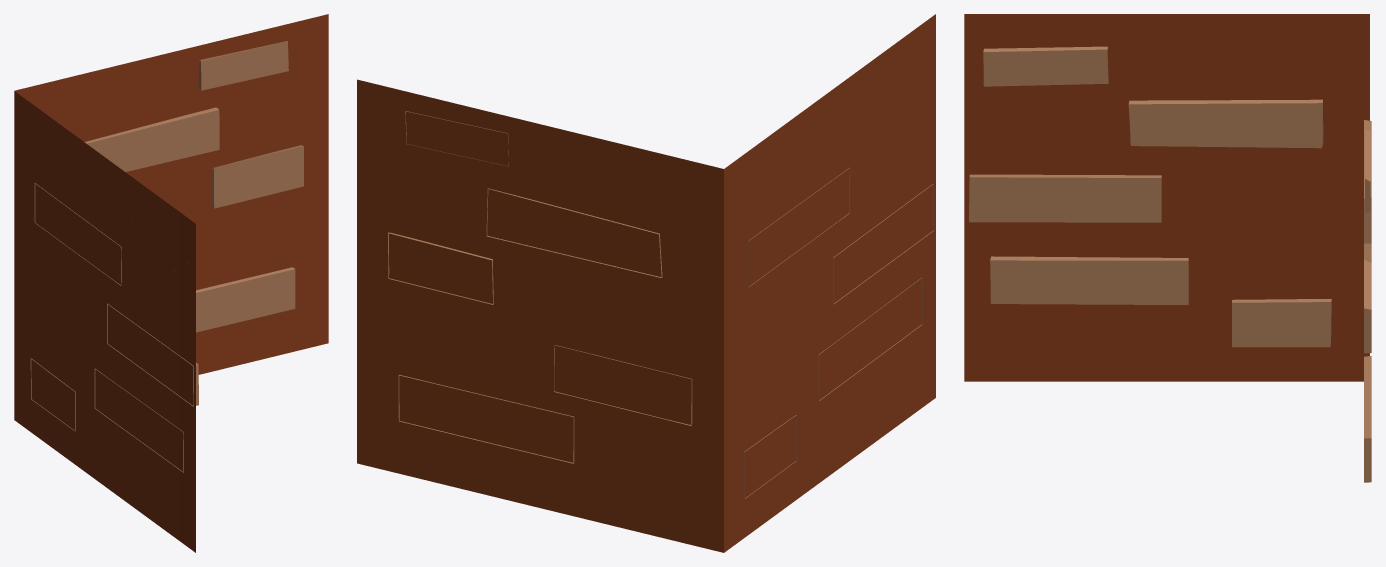
Rendered from Ext-BrickV2CornerHalfWall-Inv.fbx.
3 views of the same model, side by side, from view 1: azimuth 30°, elevation 25°; view 2: azimuth 150°, elevation 25°; view 3: azimuth 270°, elevation 25° (orthographic). The views are drawn at different scales.
Parts seen in each view (by area): view 1: Ext-BrickV2CornerHalfWall-Inv; view 2: Ext-BrickV2CornerHalfWall-Inv; view 3: Ext-BrickV2CornerHalfWall-Inv.
Boxes of the visible parts, x1,y1,x2,y2 form: Ext-BrickV2CornerHalfWall-Inv: (14, 14, 328, 552); Ext-BrickV2CornerHalfWall-Inv: (357, 14, 935, 552); Ext-BrickV2CornerHalfWall-Inv: (964, 14, 1371, 482).
Bounding box in the file's own units: 100 × 100 × 100.
